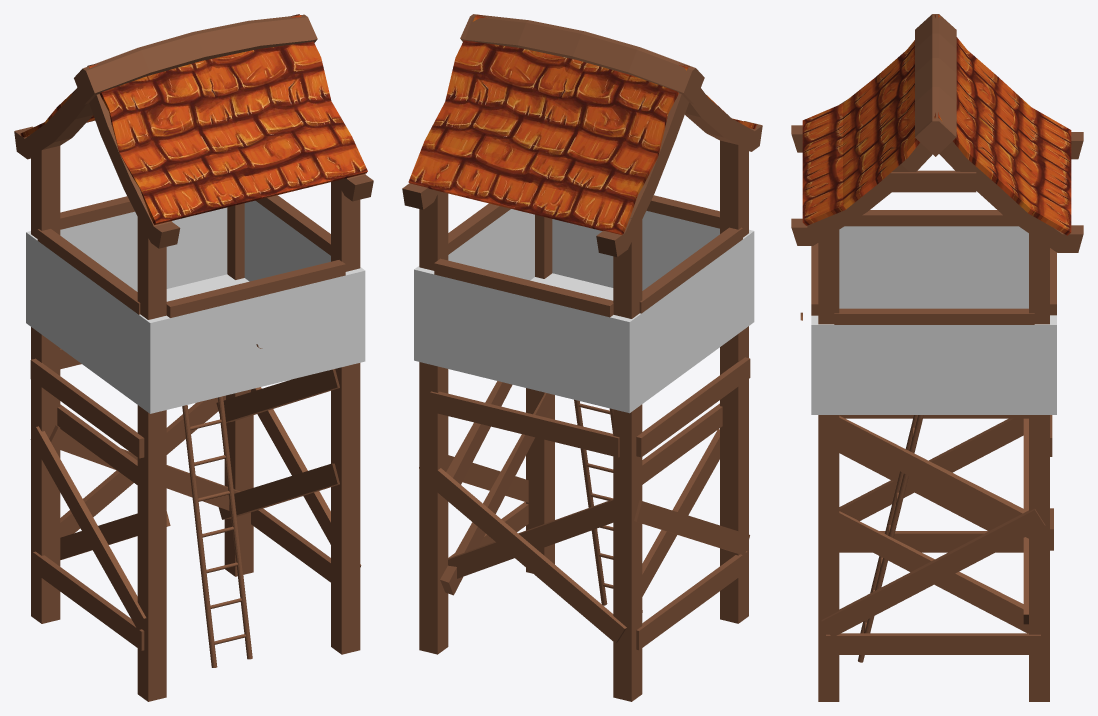
Rendered from Tower.fbx.
The picture shows the model from 3 angles, left to right: view 1: azimuth 30°, elevation 25°; view 2: azimuth 150°, elevation 25°; view 3: azimuth 270°, elevation 25°; orthographic projection.
Parts seen in each view (by area): view 1: MainBase.001; view 2: MainBase.001; view 3: MainBase.001.
Boxes of the visible parts, x1,y1,x2,y2 form: MainBase.001: (14, 14, 373, 701); MainBase.001: (402, 14, 762, 701); MainBase.001: (791, 14, 1083, 701).
Size of the model in its own units: 5.55 by 12.49 by 4.9.
3 materials, 1 textured.
